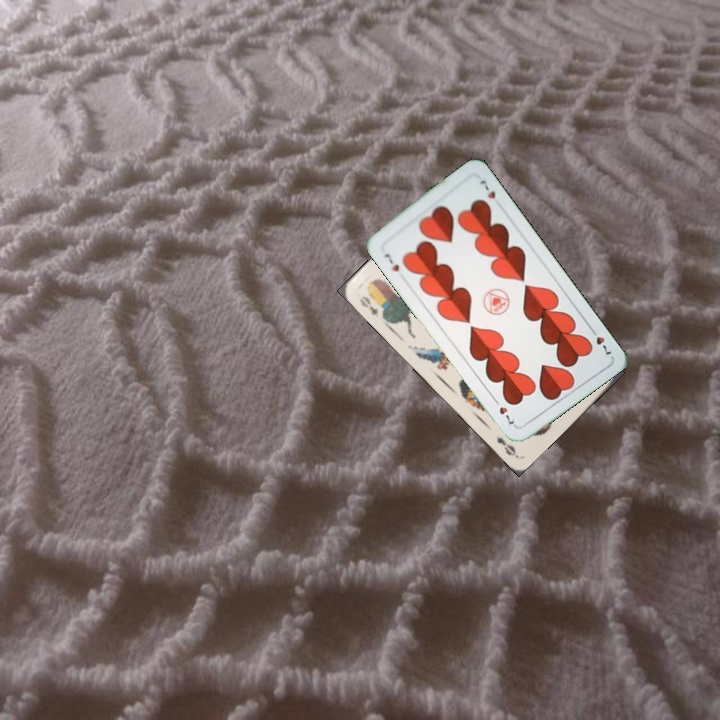EO: (355, 292, 382, 320)
H7: (586, 323, 614, 357), (380, 249, 402, 274)
